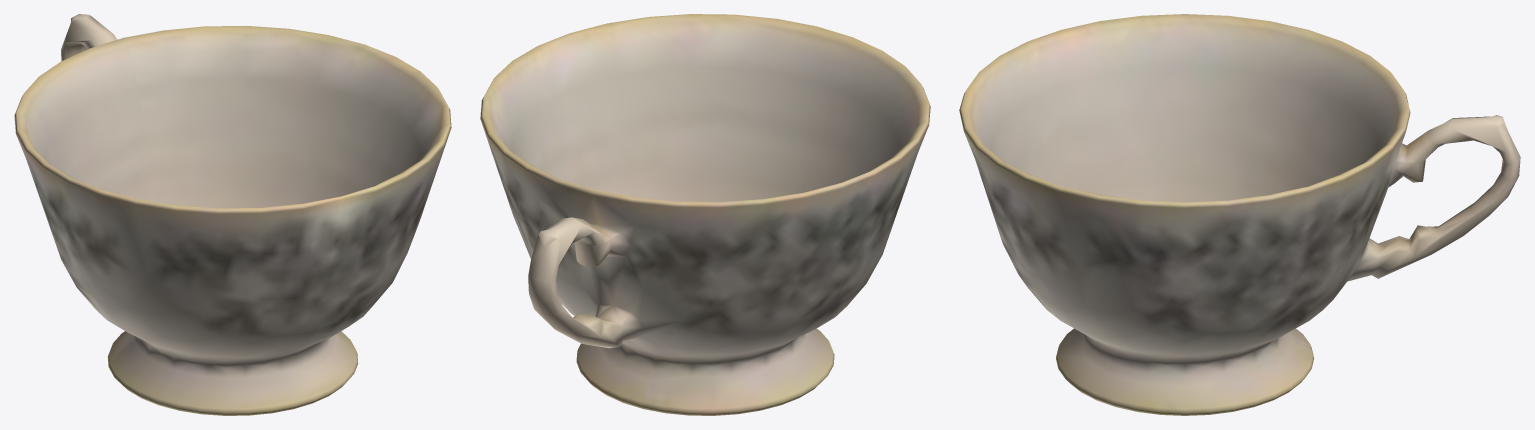
File: tea_cup.glb
3 views of the same model, side by side, from view 1: azimuth 30°, elevation 25°; view 2: azimuth 150°, elevation 25°; view 3: azimuth 270°, elevation 25° (orthographic). The views are drawn at different scales.
Visible parts, largest first — view 1: tea_set_01_cup_small_01; view 2: tea_set_01_cup_small_01; view 3: tea_set_01_cup_small_01.
Boxes of the visible parts, box(x1,y1,x2,y2) form: tea_set_01_cup_small_01: box(14, 14, 451, 415); tea_set_01_cup_small_01: box(480, 14, 930, 415); tea_set_01_cup_small_01: box(959, 14, 1520, 415).
Bounding box in the file's own units: 0.1068 × 0.0674 × 0.133.
1 material, 1 textured.
